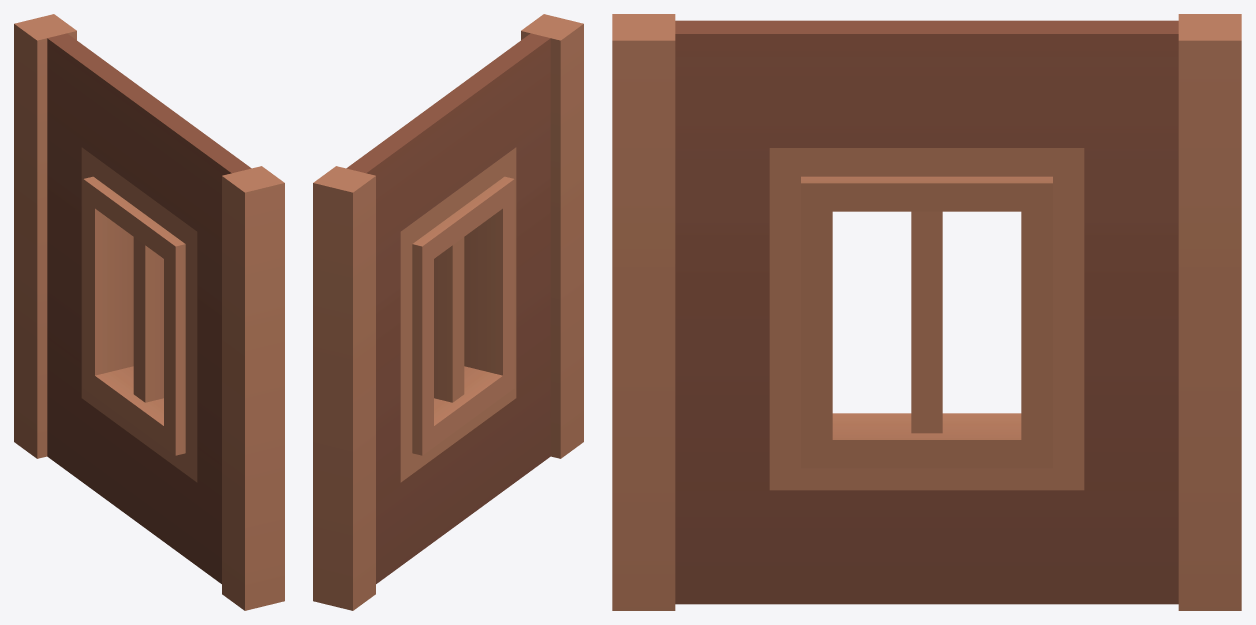
File: wall-wood-window-shutters.glb
3 renders of one model, left to right at view 1: azimuth 30°, elevation 25°; view 2: azimuth 150°, elevation 25°; view 3: azimuth 270°, elevation 25°, orthographic. The views are drawn at different scales.
Parts seen in each view (by area): view 1: wall-wood-window-shutters; view 2: wall-wood-window-shutters; view 3: wall-wood-window-shutters.
Part boxes in pixels (box(x1,y1,x2,y2)): wall-wood-window-shutters: box(14, 14, 284, 610); wall-wood-window-shutters: box(313, 14, 583, 610); wall-wood-window-shutters: box(612, 14, 1241, 610).
Size of the model in its own units: 0.1 by 1 by 1.
Materials: 1 (1 with a texture image).
